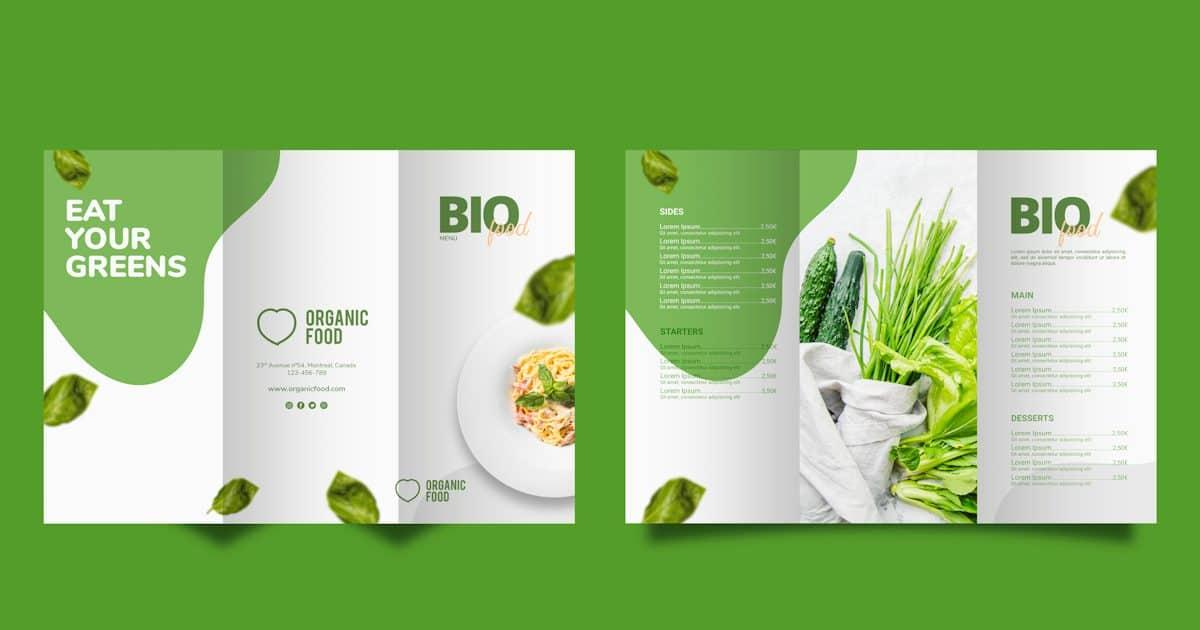paper: (42, 149, 1160, 527)
